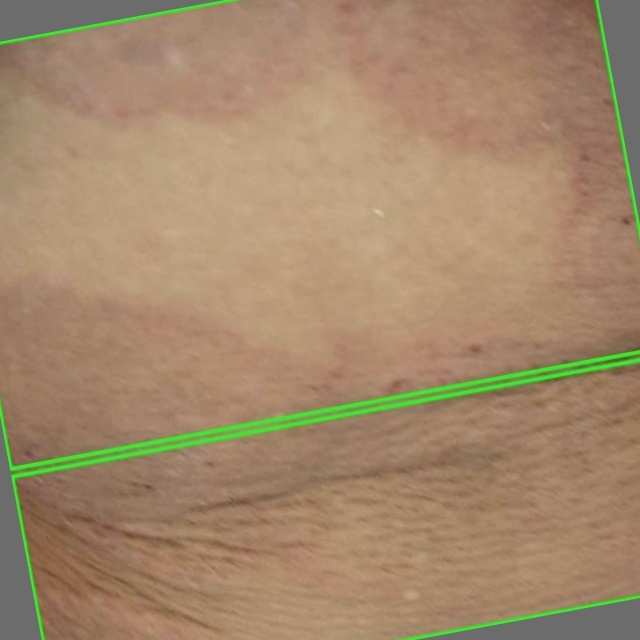Tinea Corporis: (0, 0, 639, 468), (12, 359, 639, 639)
